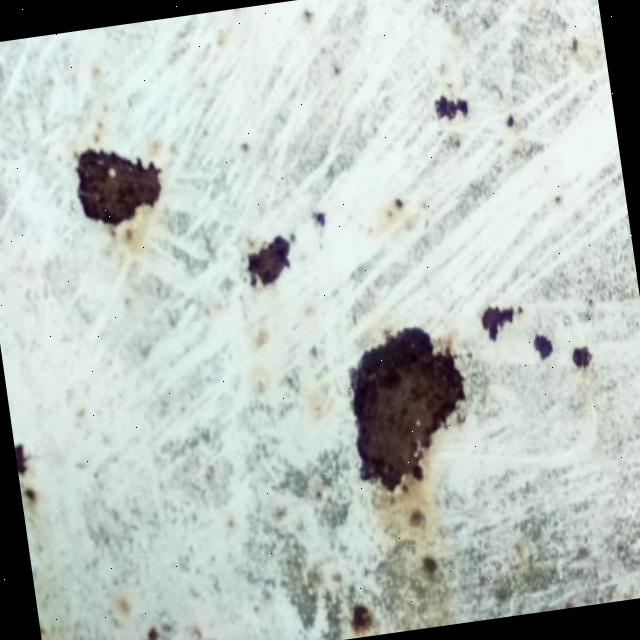Corrosion: (338, 319, 478, 496), (70, 137, 168, 230), (242, 232, 296, 288)
